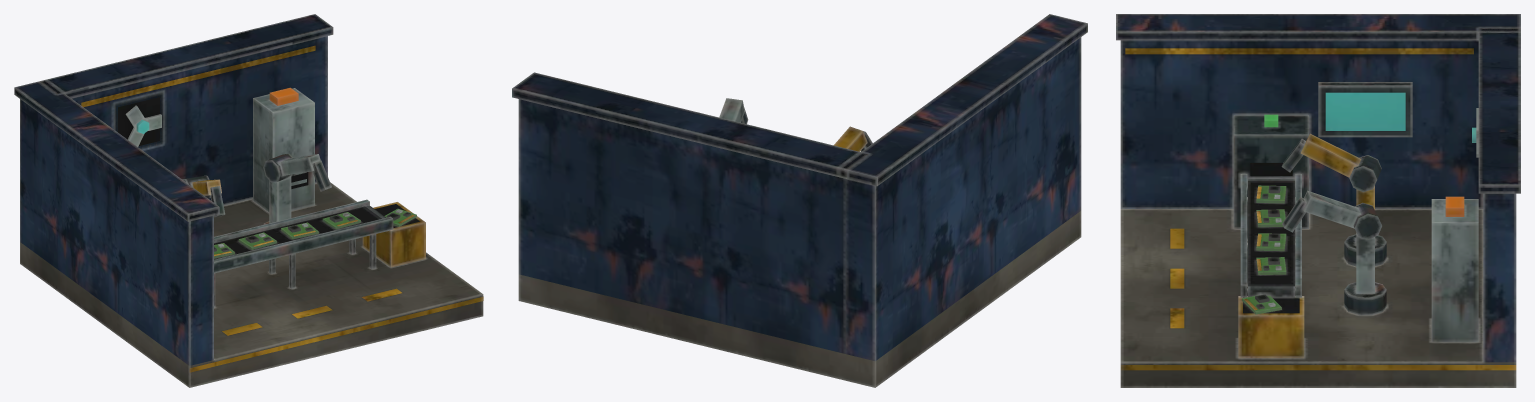
Rendered from electronics_factory.glb.
3 views of the same model, side by side, from view 1: azimuth 30°, elevation 25°; view 2: azimuth 150°, elevation 25°; view 3: azimuth 270°, elevation 25° (orthographic). The views are drawn at different scales.
Parts seen in each view (by area): view 1: te_electronics_factory, move_fan_1; view 2: te_electronics_factory; view 3: te_electronics_factory.
Part boxes in pixels (box(x1,y1,x2,y2)): te_electronics_factory: box(14, 14, 483, 387); move_fan_1: box(125, 105, 161, 146); te_electronics_factory: box(512, 14, 1087, 387); te_electronics_factory: box(1116, 14, 1520, 387).
Bounding box in the file's own units: 0.86 × 0.48 × 0.86.
1 material, 1 textured.
